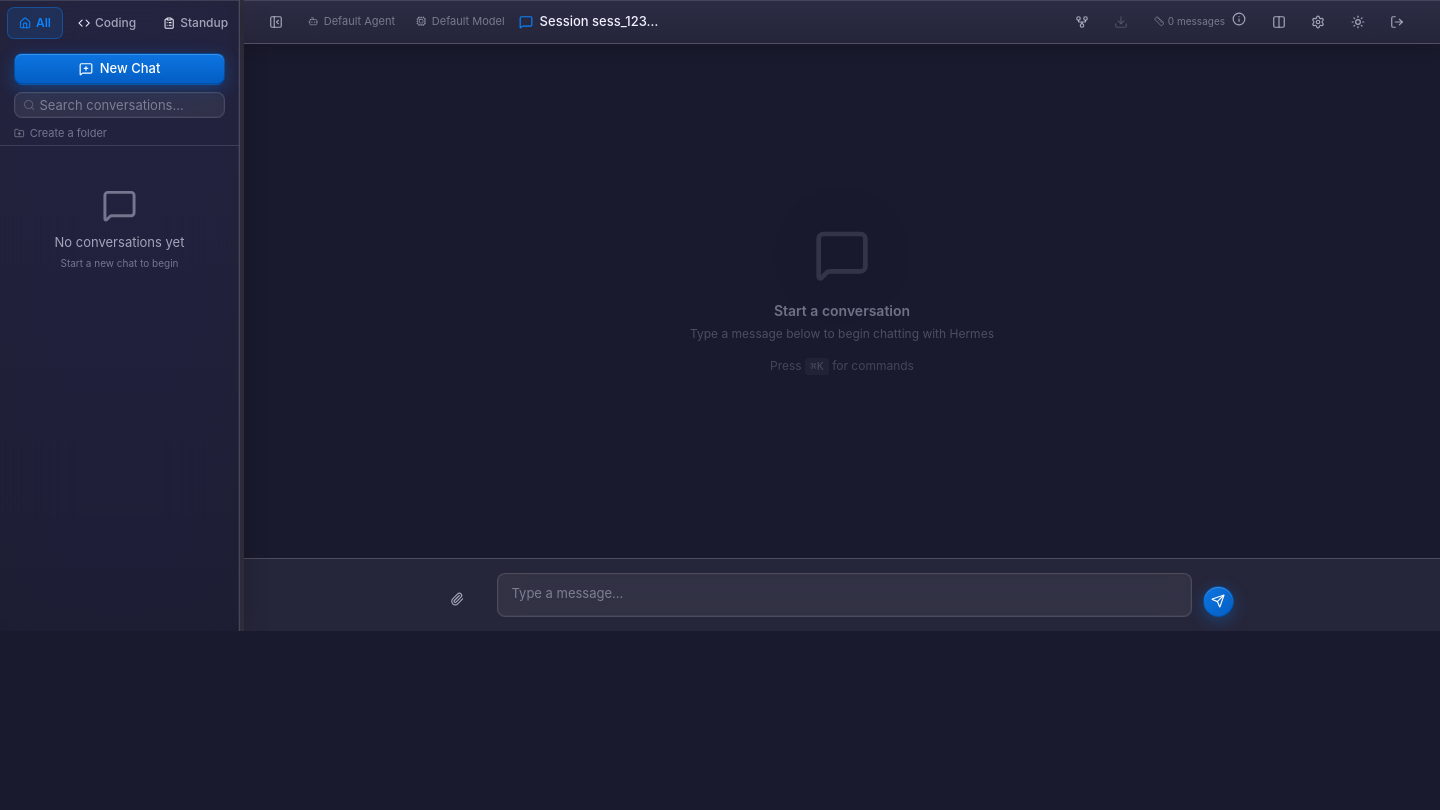
Scenario: ChatPage › opens fork dialog when fork button is clicked
The width and height of the screenshot is (1440, 810).
Click the button titled "Fork session" at (1093, 22), box top-left (1075, 4), bottom-right (1111, 40)
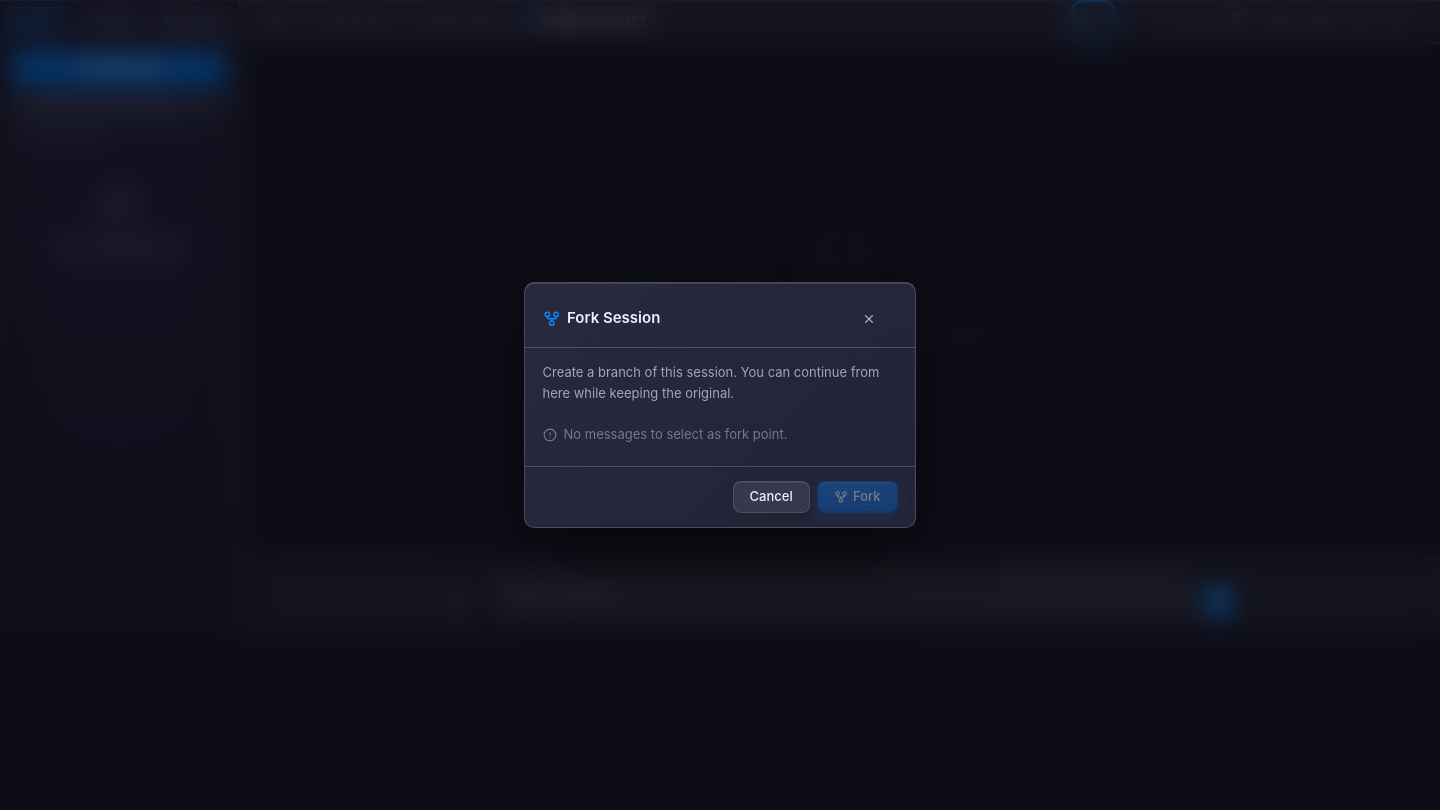
Expected: the heading "Fork Session" is shown, top-left (567, 307), bottom-right (660, 330)
